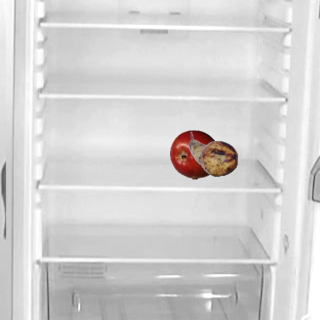Apple Braeburn: (169, 129, 219, 179)
Pear Abate: (188, 129, 238, 179)
